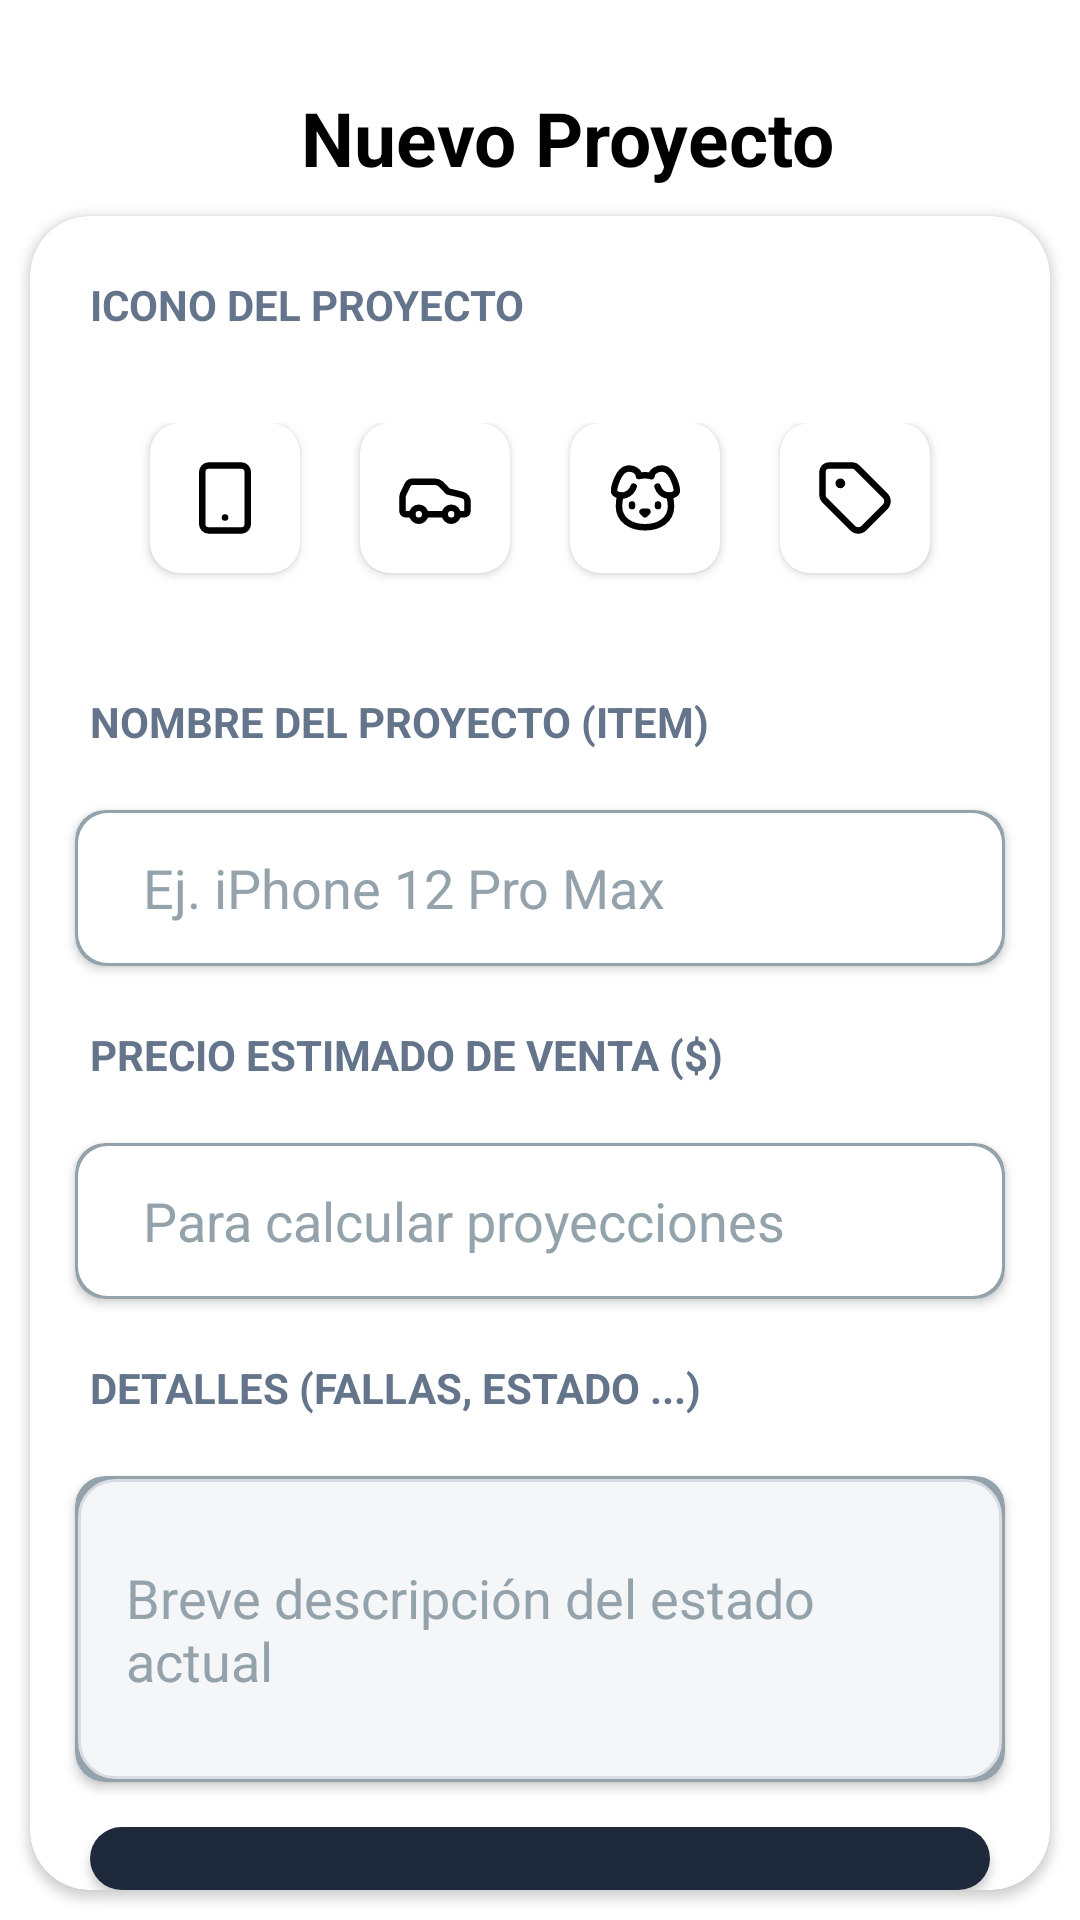

Icons on this 1080x1920 Android screen, each with its box as (x1, y1, x2, y2):
animal: (611, 465, 680, 531)
car: (399, 478, 471, 524)
phone: (199, 462, 251, 534)
tag: (819, 462, 891, 534)
